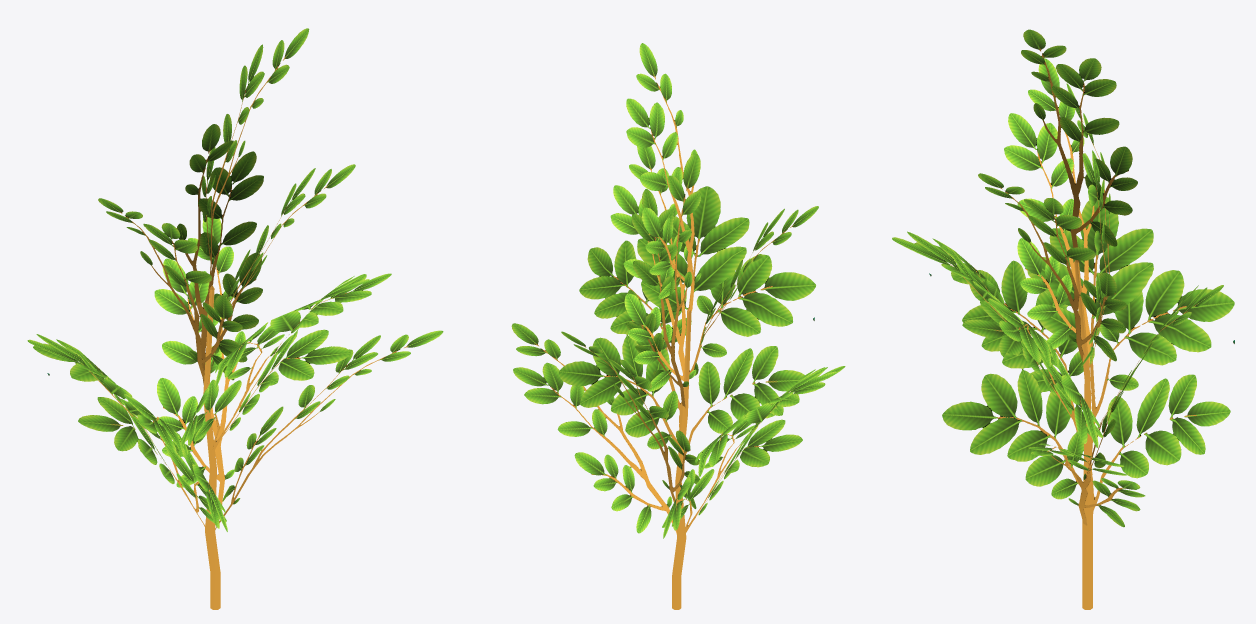
The model's file is Plant_02.fbx.
3 renders of one model, left to right at view 1: azimuth 30°, elevation 25°; view 2: azimuth 150°, elevation 25°; view 3: azimuth 270°, elevation 25°, orthographic. The views are drawn at different scales.
Parts seen in each view (by area): view 1: SM_Plant_02.001; view 2: SM_Plant_02.001; view 3: SM_Plant_02.001.
Part boxes in pixels (x1,y1,x2,y2): SM_Plant_02.001: [27, 28, 443, 609]; SM_Plant_02.001: [511, 43, 845, 609]; SM_Plant_02.001: [892, 29, 1234, 609].
Size of the model in its own units: 165 by 231 by 117.
